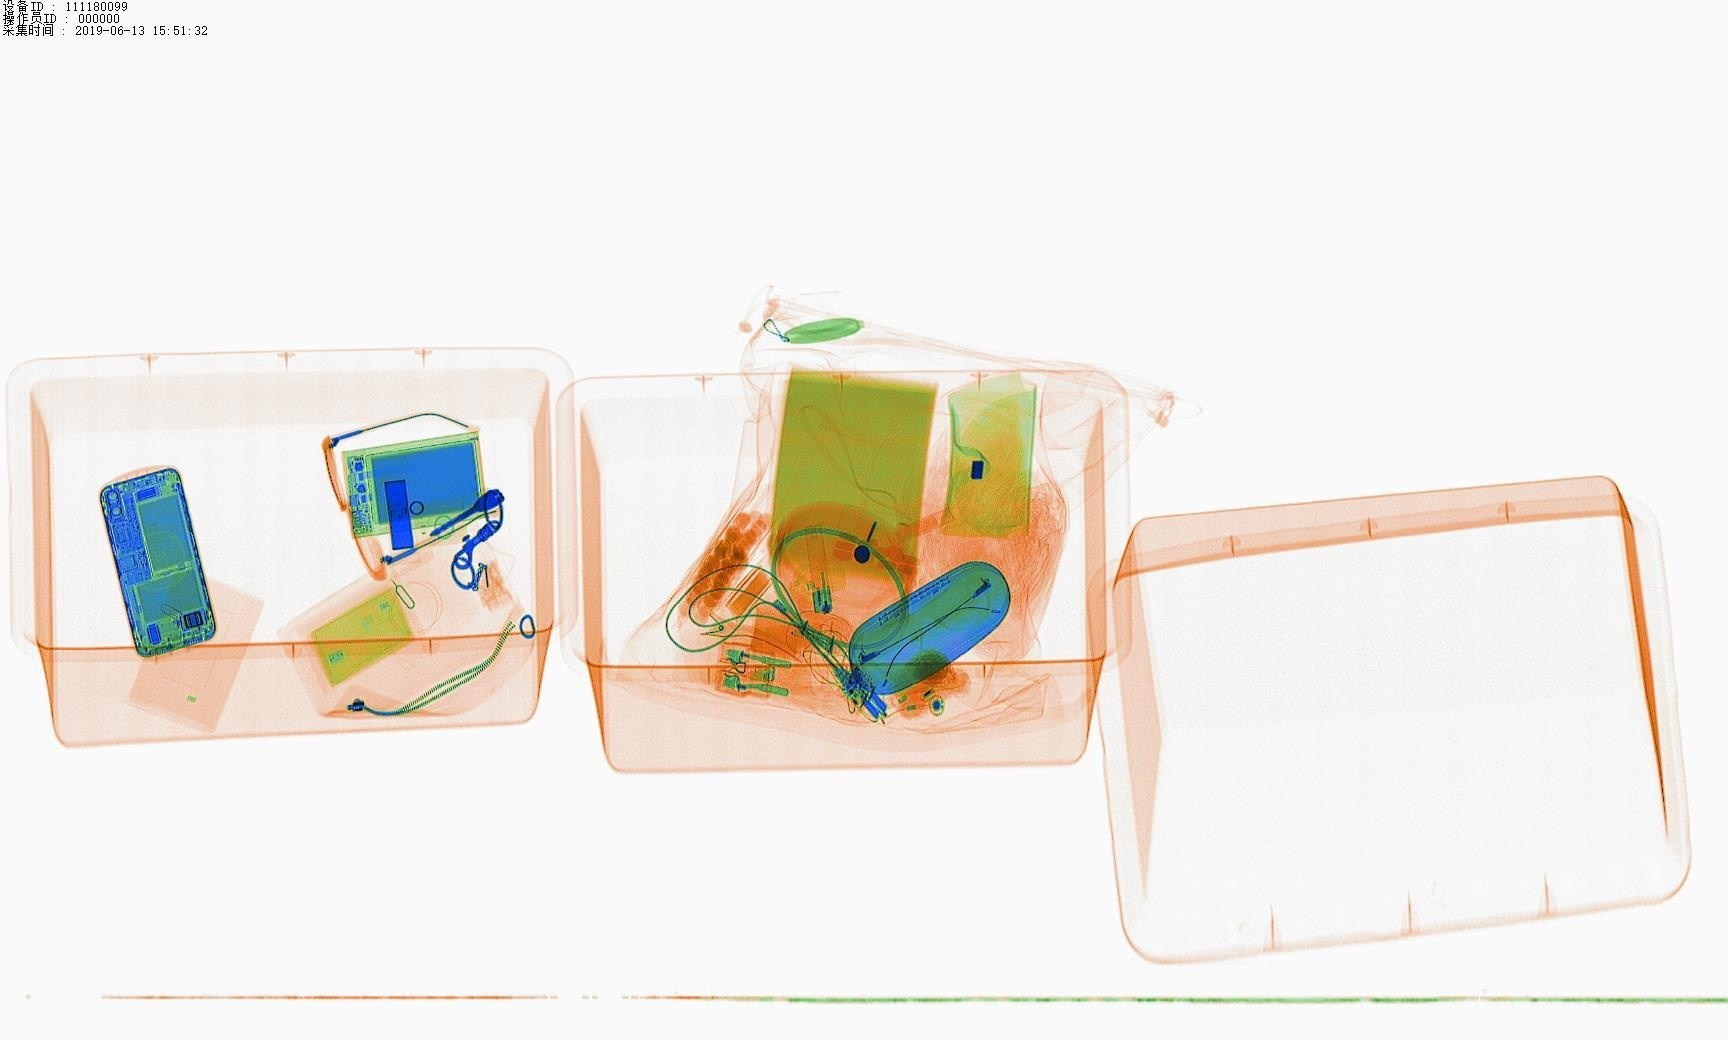NonmetallicFire: (791, 506, 853, 625)
